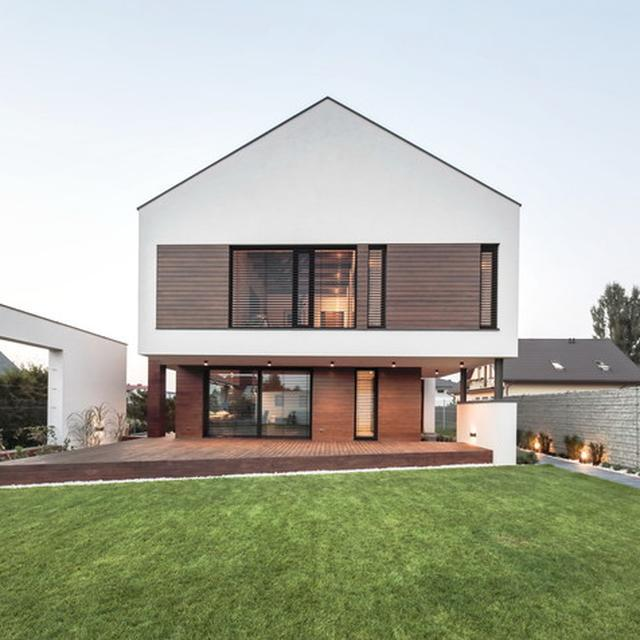building: (147, 92, 519, 450)
